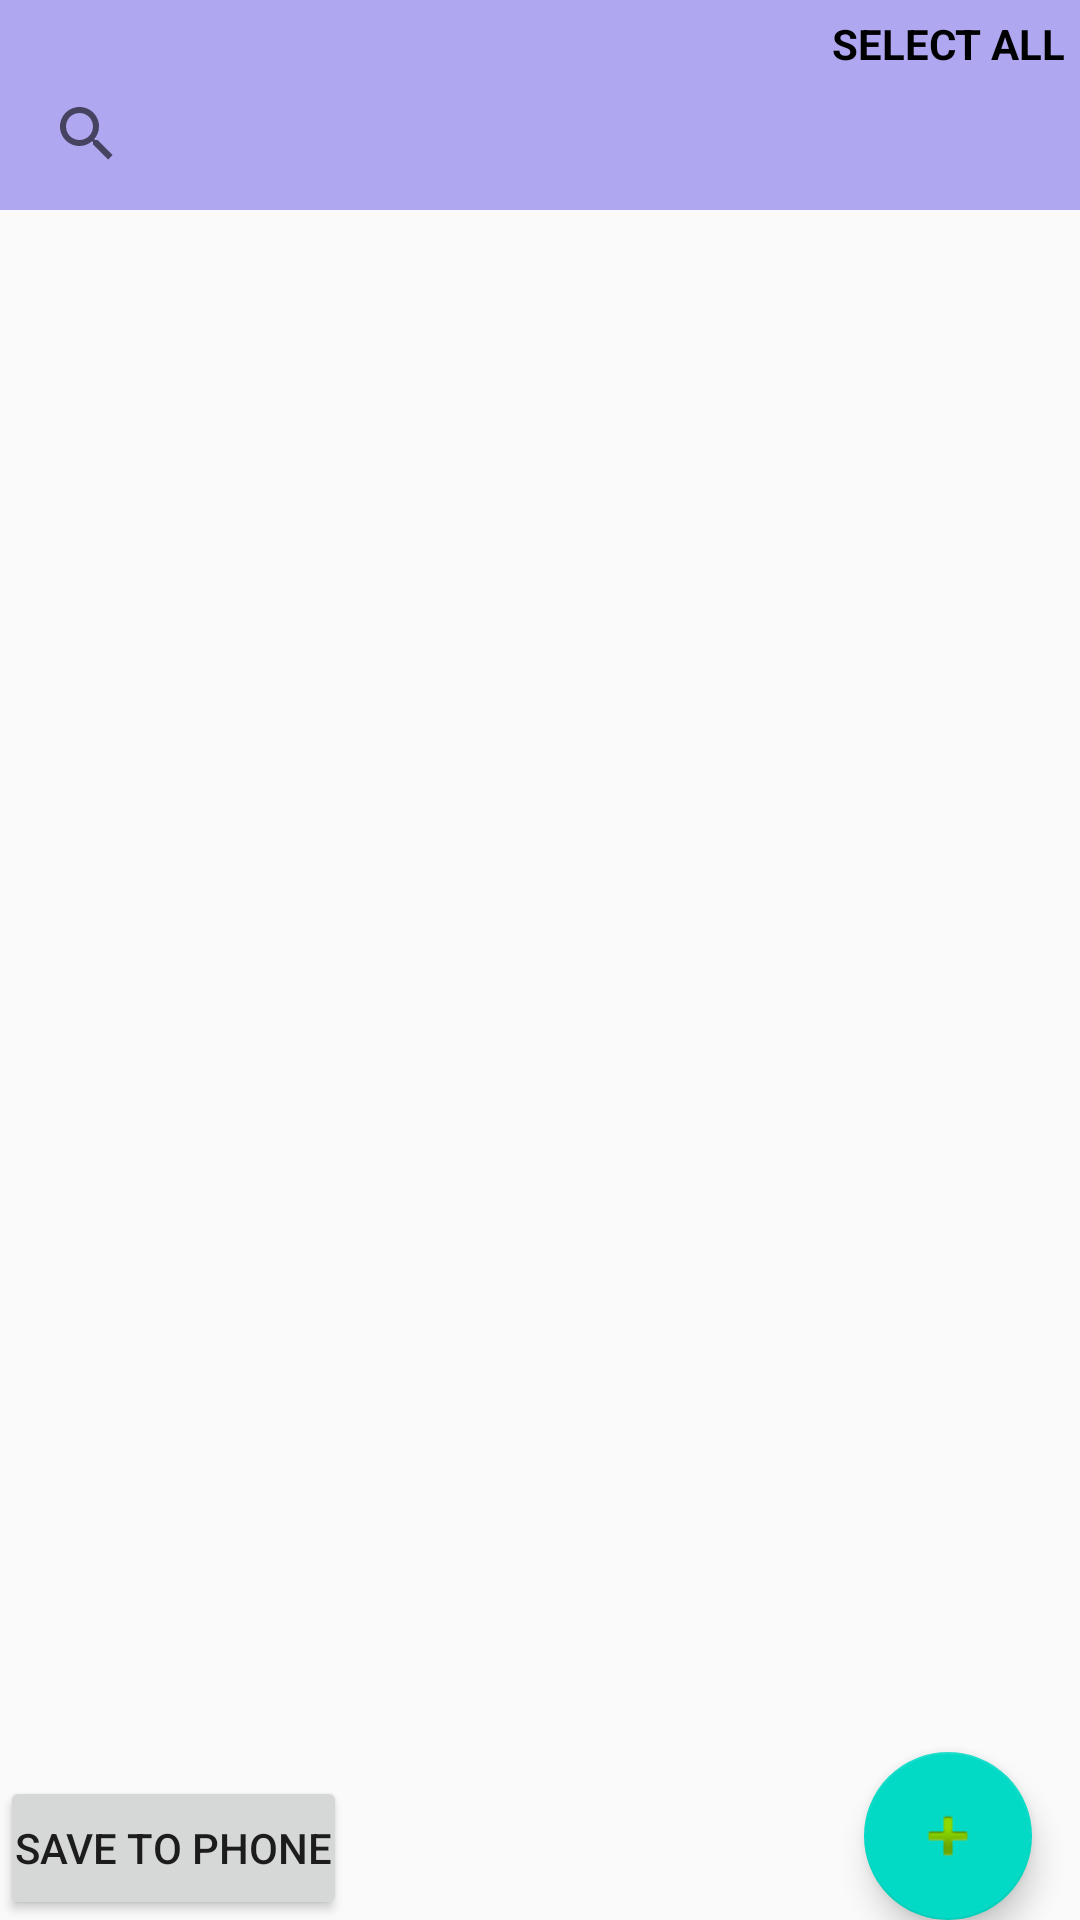

Named icons in this screenshot (1080px x 1920px) and their centers, point (x, y):
add: point (948, 1836)
